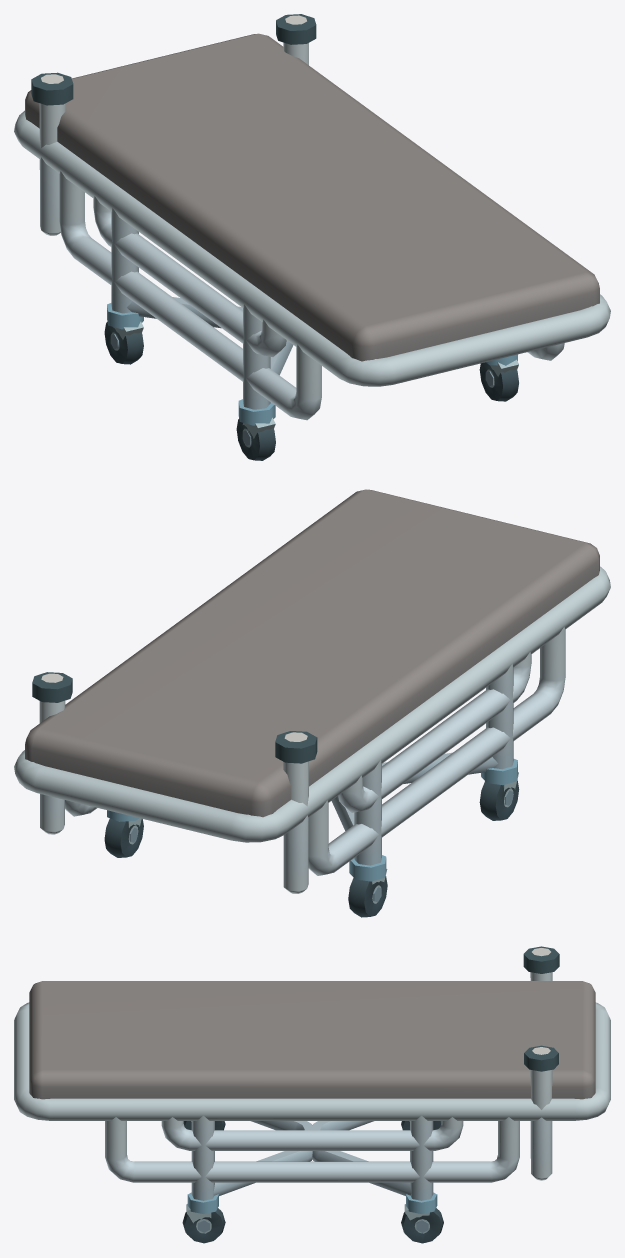
File: Pfb_JLAB_Bed__2.fbx
3 views of the same model, one above another, from view 1: azimuth 30°, elevation 25°; view 2: azimuth 150°, elevation 25°; view 3: azimuth 270°, elevation 25° (orthographic). The views are drawn at different scales.
Parts seen in each view (by area): view 1: Color, Metal; view 2: Color, Metal; view 3: Color, Metal.
Boxes of the visible parts, x1,y1,x2,y2 form: Color: [25, 14, 599, 460]; Metal: [14, 42, 610, 425]; Color: [25, 489, 599, 917]; Metal: [14, 566, 610, 893]; Color: [29, 946, 595, 1243]; Metal: [14, 972, 610, 1213].
Bounding box in the file's own units: 1.06 × 0.8324 × 2.35.
Materials: 2 (2 with a texture image).
